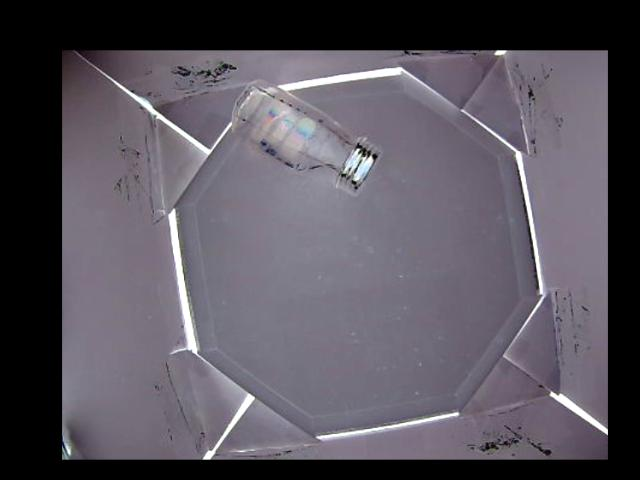Bottle: (230, 80, 384, 192)
